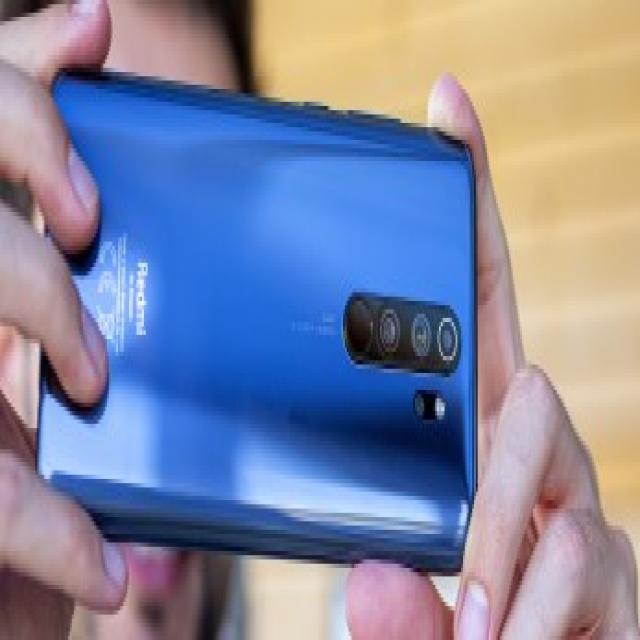Red Mi Note 8 Pro: (35, 72, 478, 572)
